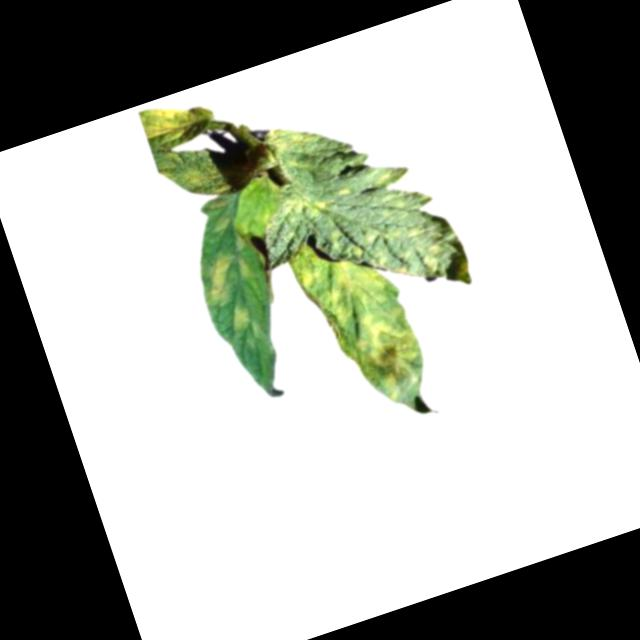Leaf_Mold: (286, 222, 436, 425), (137, 89, 216, 154), (262, 112, 332, 178), (278, 185, 330, 232), (201, 256, 244, 304), (228, 302, 259, 334)
